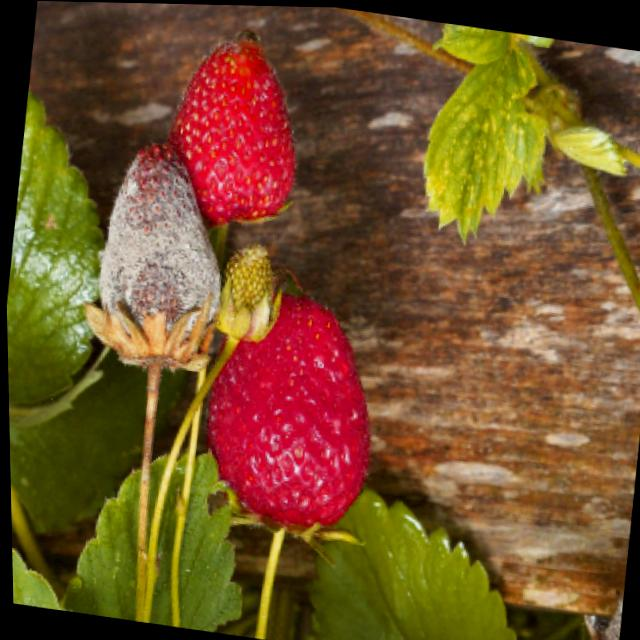Gray Mold: (81, 136, 221, 370), (580, 585, 621, 640)
